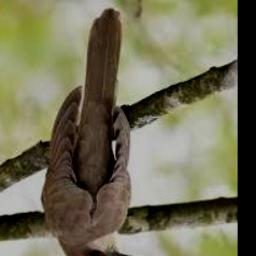Cuckoo: (42, 9, 141, 256)
